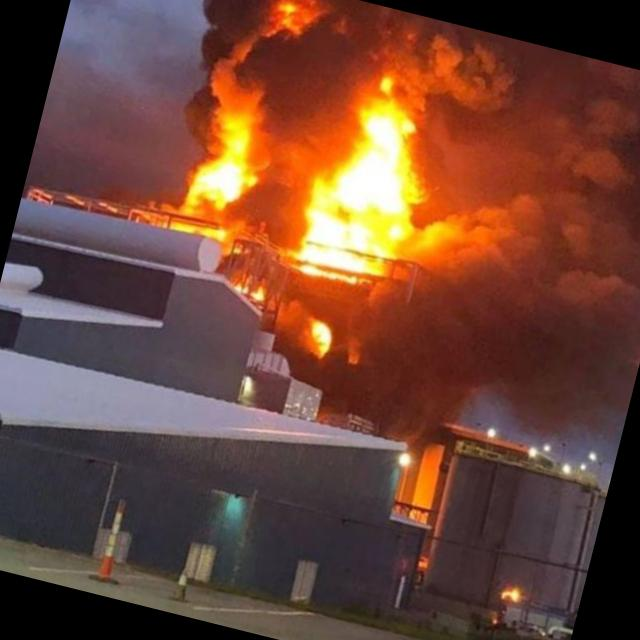fire: (268, 45, 479, 308), (155, 84, 285, 254), (257, 0, 323, 50), (291, 313, 353, 365), (222, 268, 278, 306)
